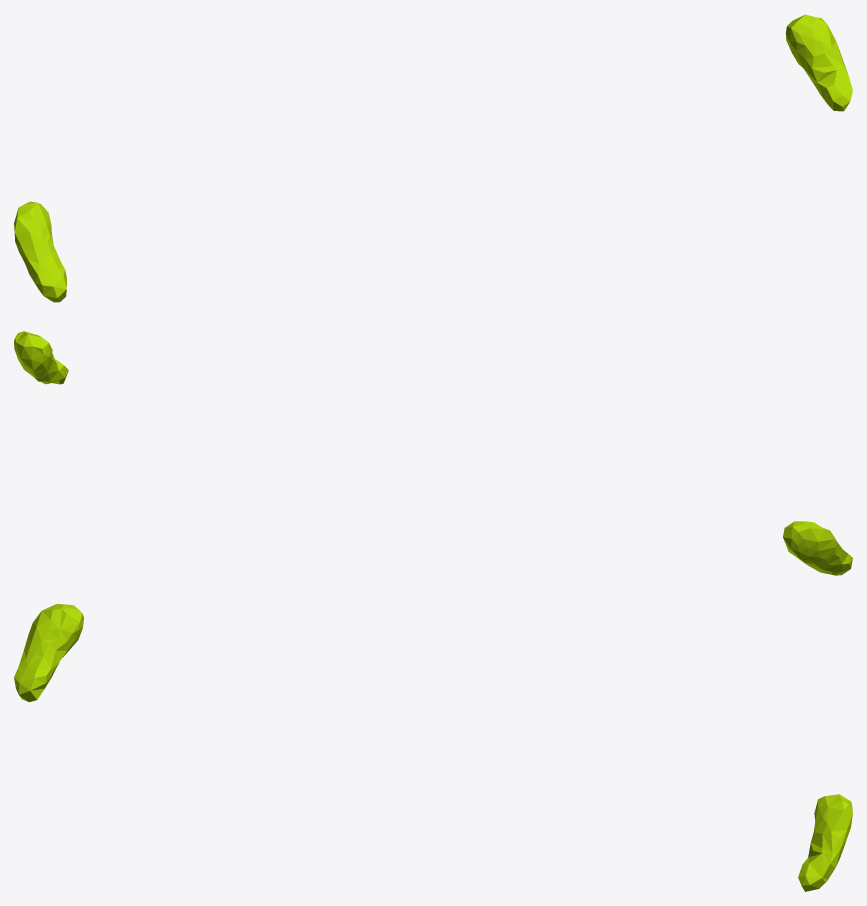
Rendered from 187-ProKL-prokoniocortex, lateral part-('0.8039', '1.0000', '0.0000').obj.
3 views of the same model, one above another, from view 1: azimuth 30°, elevation 25°; view 2: azimuth 150°, elevation 25°; view 3: azimuth 330°, elevation 25° (orthographic).
Size of the model in its own units: 296 by 25.49 by 27.7.
